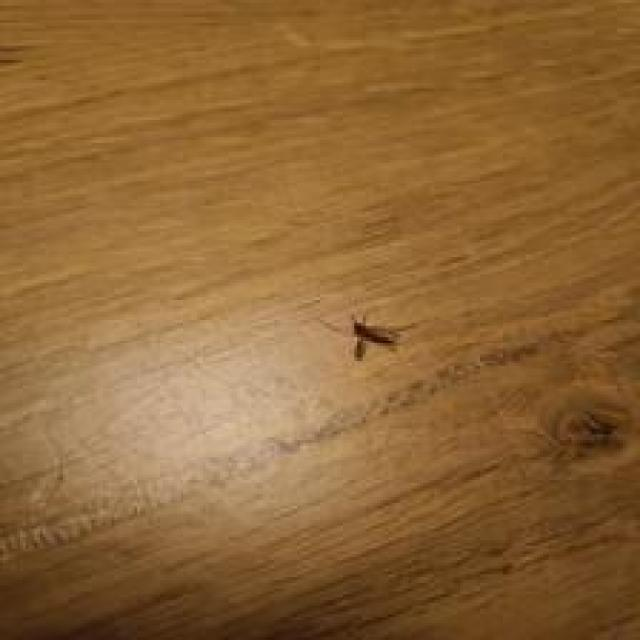Culex: (347, 313, 413, 358)
